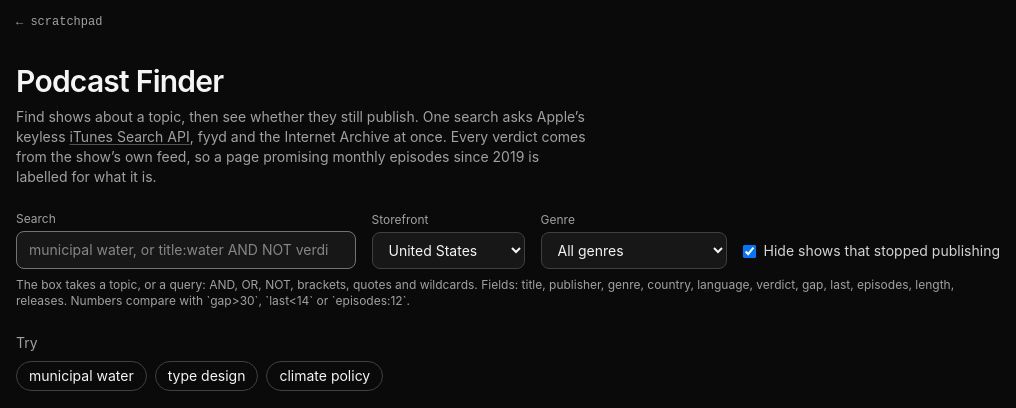
Test: PodcastFinderPage › reports a failed search in plain words
Type "drains" into the search field labelled "Search".
click(186, 250); type("drains")  # box x1=16 y1=231 x2=356 y2=269
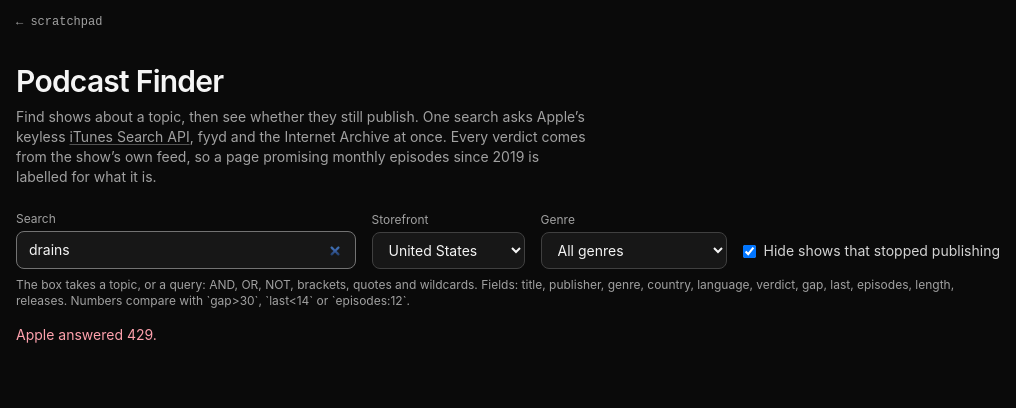
Expected: the text "Apple answered 429." is shown, x1=16 y1=326 x2=157 y2=343
